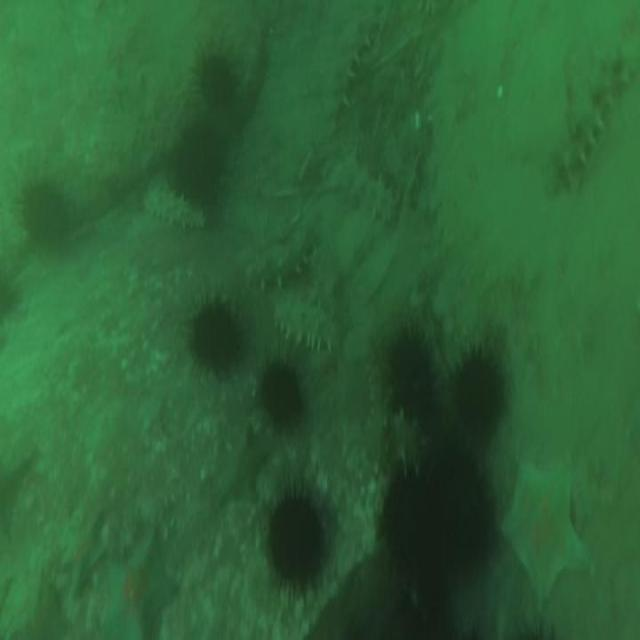echinus: (433, 439, 492, 548), (380, 471, 434, 562), (268, 495, 322, 583), (172, 127, 223, 199), (454, 354, 500, 431), (390, 336, 430, 418), (195, 300, 239, 373), (21, 186, 66, 245), (262, 365, 300, 424), (199, 55, 235, 106)
holothurian: (562, 46, 640, 125), (561, 96, 606, 193), (323, 22, 358, 138), (339, 155, 396, 221), (244, 236, 308, 284), (276, 298, 332, 351), (142, 188, 206, 232)
starfish: (502, 453, 590, 599), (106, 534, 175, 634), (61, 515, 105, 593)
